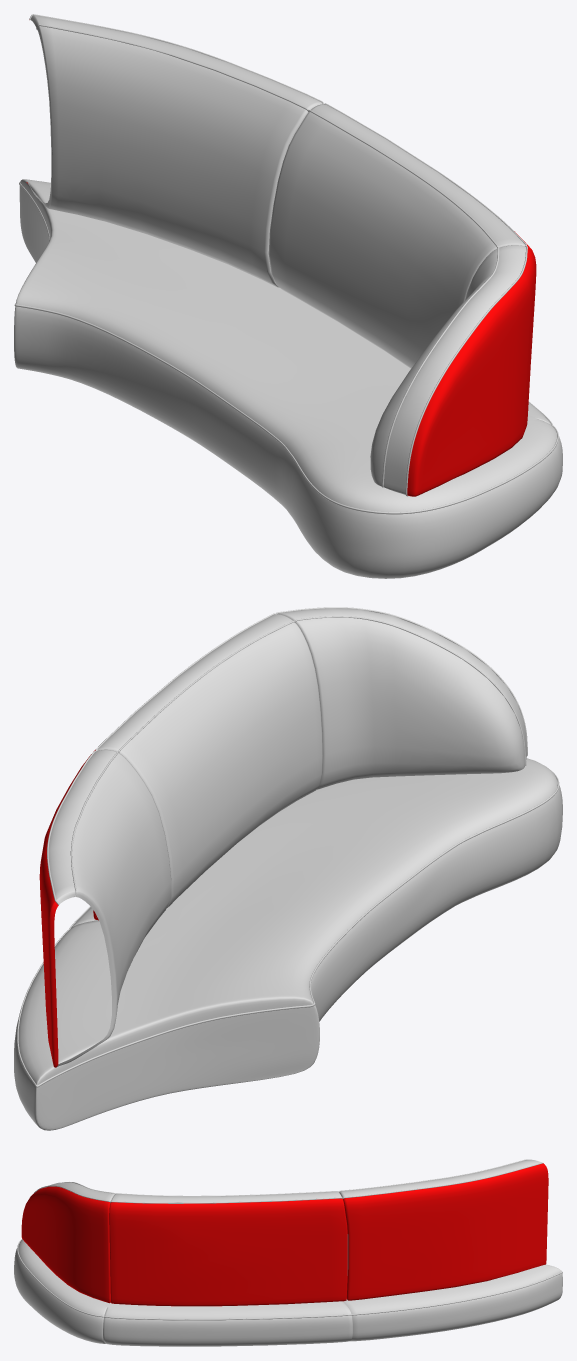
File: levante_l_female.gltf
The picture shows the model from 3 angles, top to bottom: view 1: azimuth 30°, elevation 25°; view 2: azimuth 150°, elevation 25°; view 3: azimuth 270°, elevation 25°; orthographic projection. The views are drawn at different scales.
Parts seen in each view (by area): view 1: levante_l_female; view 2: levante_l_female; view 3: levante_l_female.
Boxes of the visible parts, <box> form: levante_l_female: <box>14,14,562,578</box>; levante_l_female: <box>14,607,562,1130</box>; levante_l_female: <box>14,1159,562,1346</box>.
Size of the model in its own units: 0.9381 by 0.6989 by 2.38.
